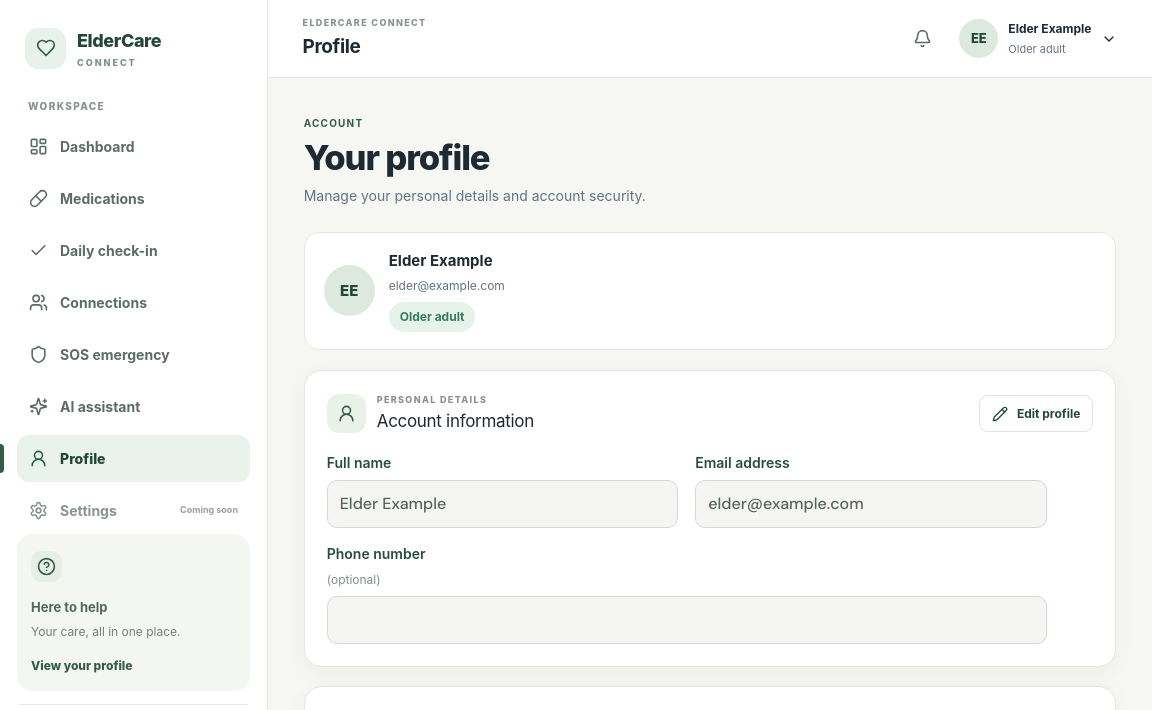
Test: authentication pages and state › removes the stored token and returns home on logout
Check: the heading "Your profile" is shown, box [304, 137, 490, 178]
Click the heading named "Open Elder Example's profile menu": (1038,38) [959, 19, 1118, 58]
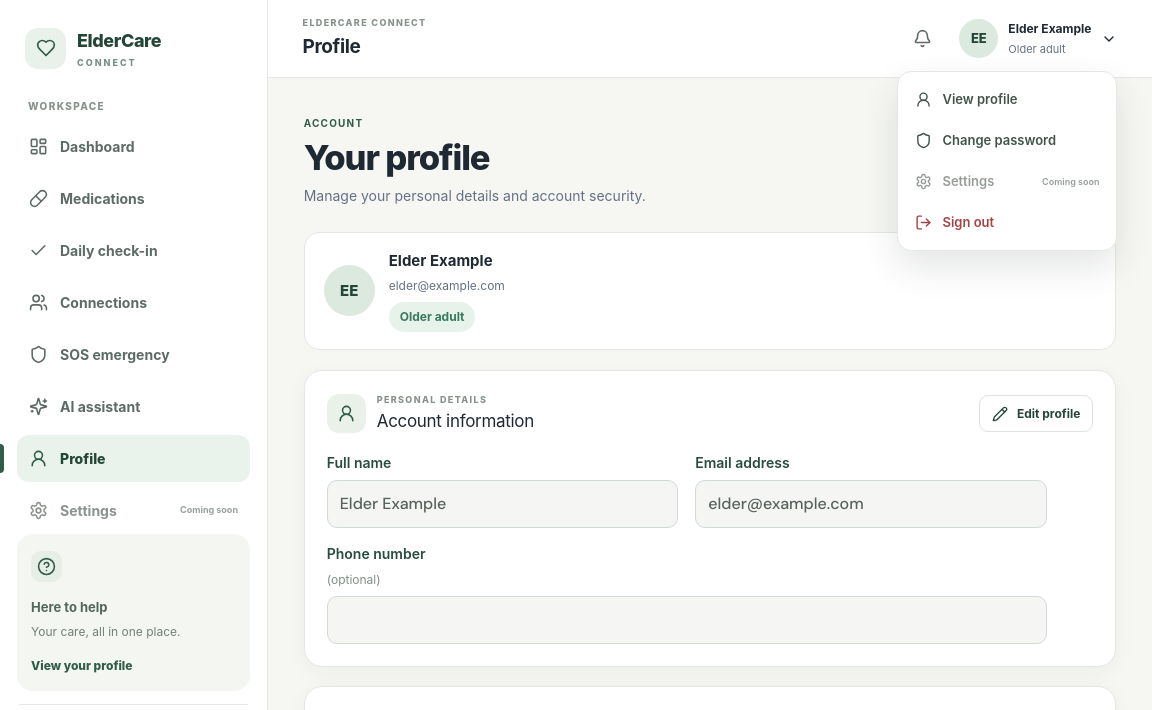
Click the button "Sign out": (1008,222) [906, 202, 1110, 243]
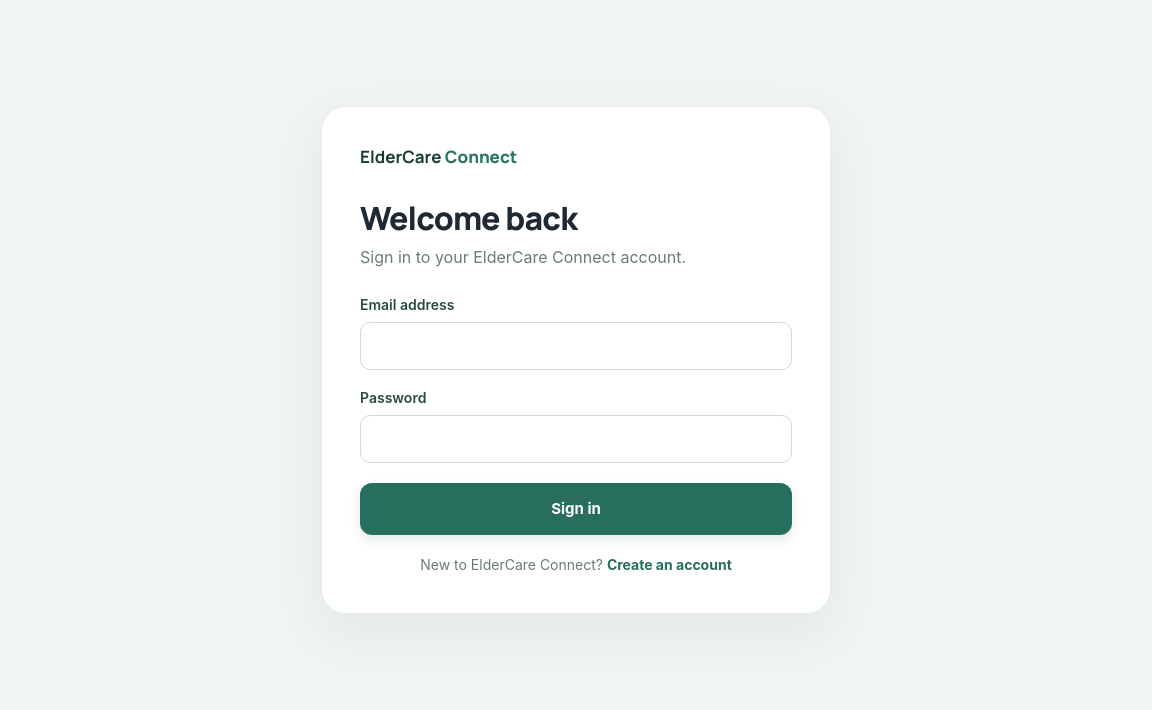
Check: the heading "Welcome back" is shown, box [360, 196, 577, 240]
